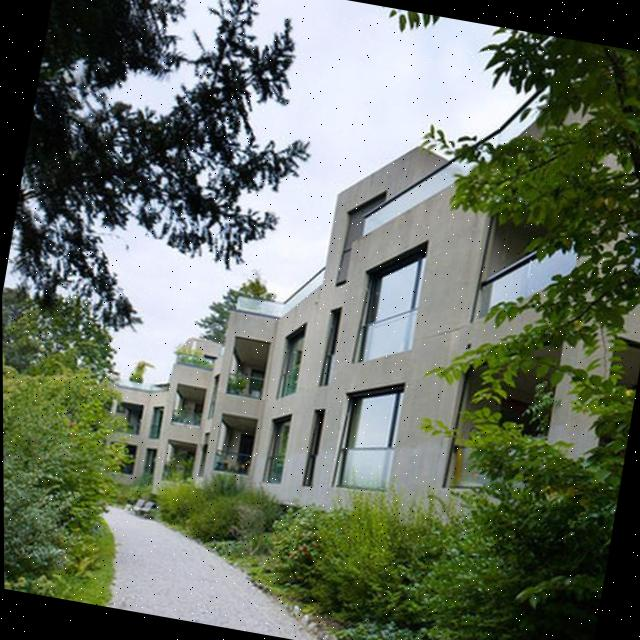building: (102, 102, 598, 535)
